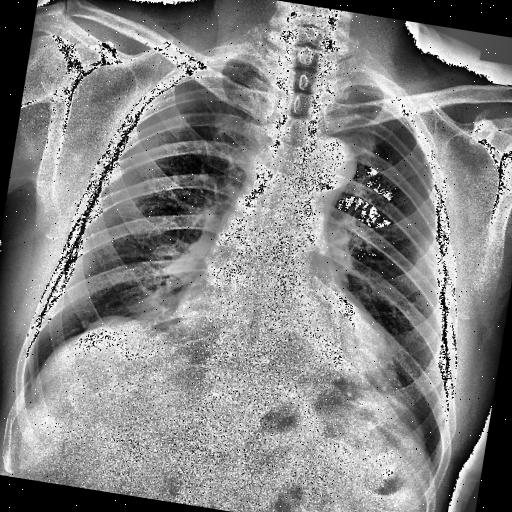0- Aortic enlargement: (286, 127, 360, 207), (284, 126, 360, 196), (304, 132, 362, 192)
3- Cardiomegaly: (172, 276, 401, 390), (163, 288, 401, 383)
9- Other lesion: (82, 298, 144, 350)
